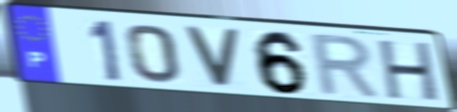0: (123, 22, 185, 86)
1: (86, 19, 124, 85)
6: (252, 28, 314, 97)
H: (377, 38, 442, 105)
R: (309, 32, 384, 103)
V: (180, 24, 244, 92)
